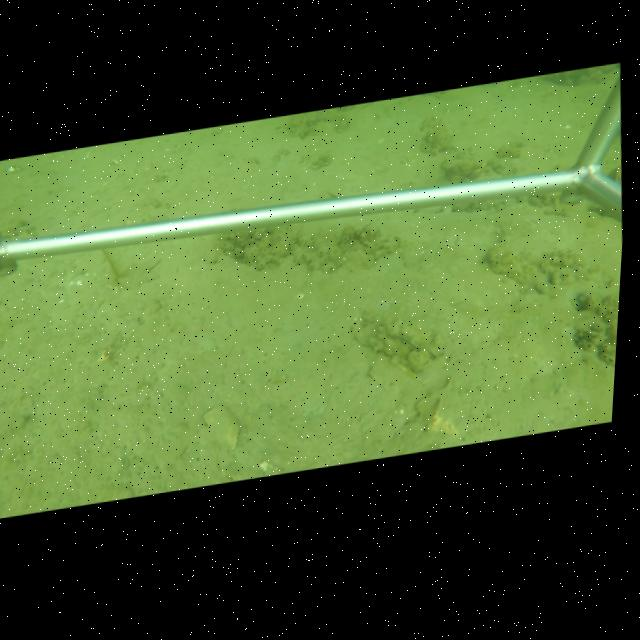Oyster-Closed: (383, 329, 442, 363)
